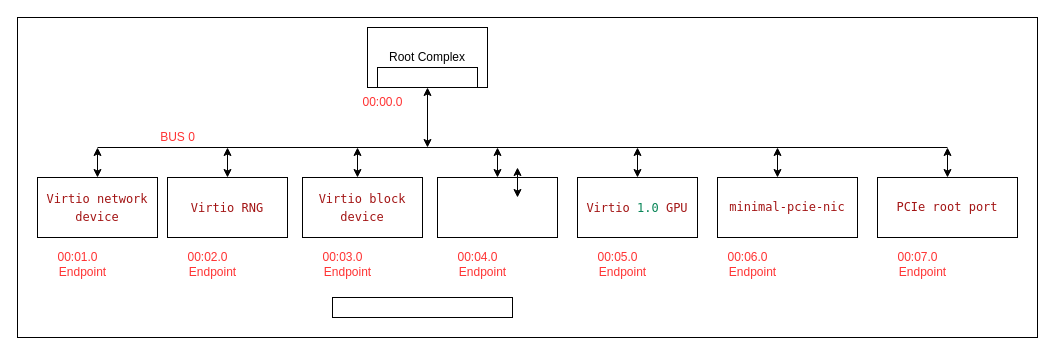
This 1055x355 diagram has some shape labels left out. The shapes that lost their labels are listed below. From the top down, each one's centre as x and y in pixels, then its label:
At [427,77]: "Host Bridge".
At [497,207]: "QEMU XHCI Host Controller".
At [422,307]: "BUS : DEVICE . FUNCTION".
